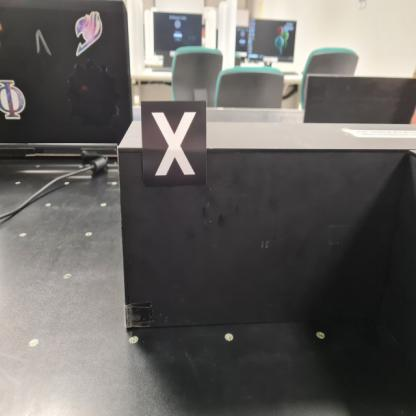x: (141, 101, 207, 187)
